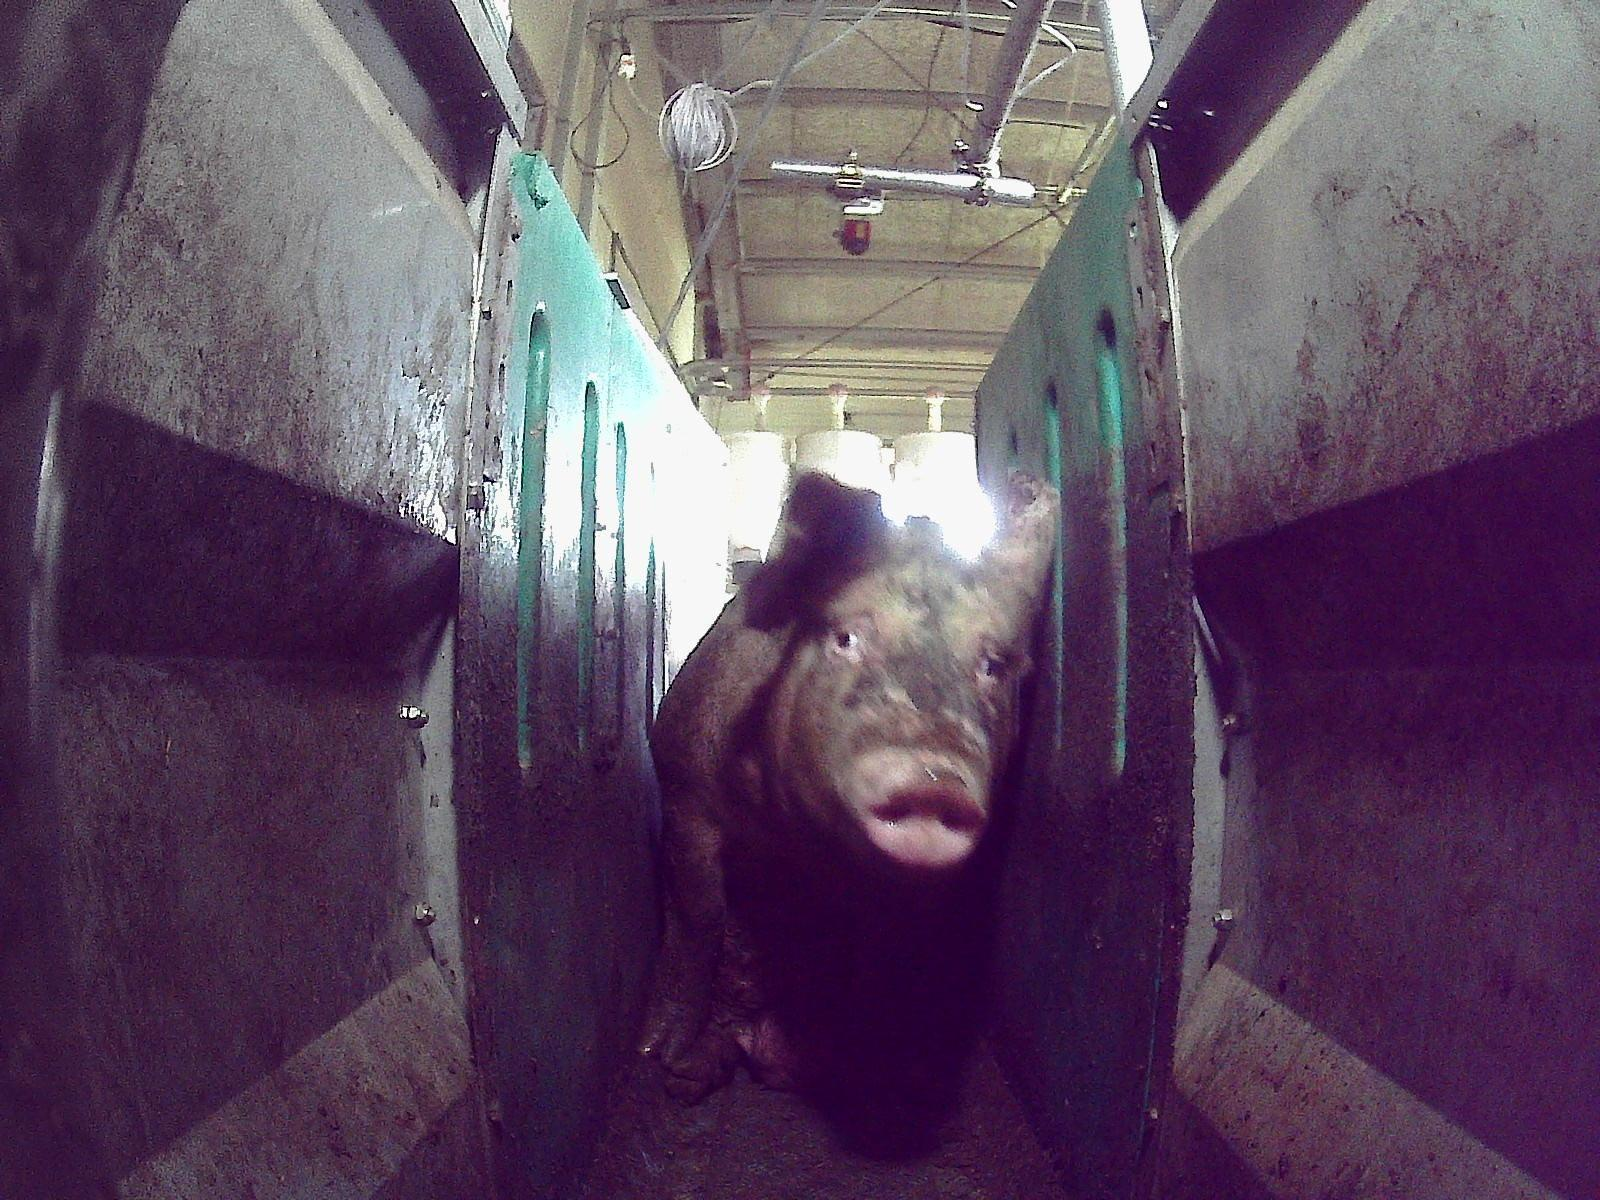Face: (759, 541, 1043, 866)
